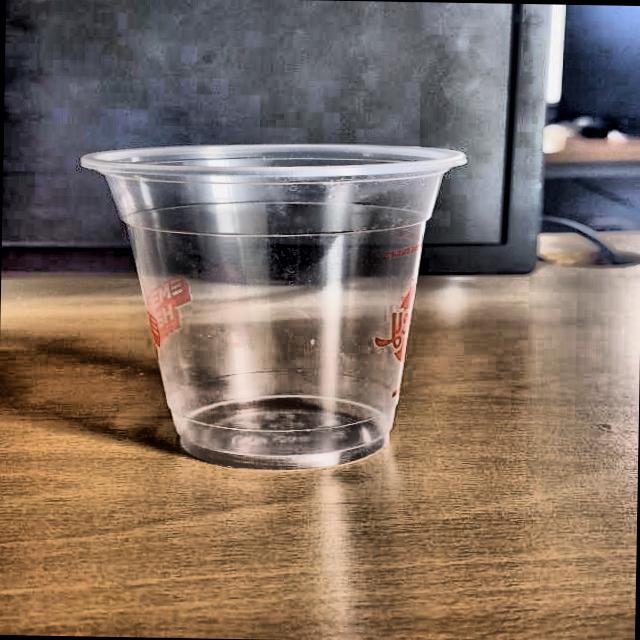plastic cup: (72, 136, 469, 470)
